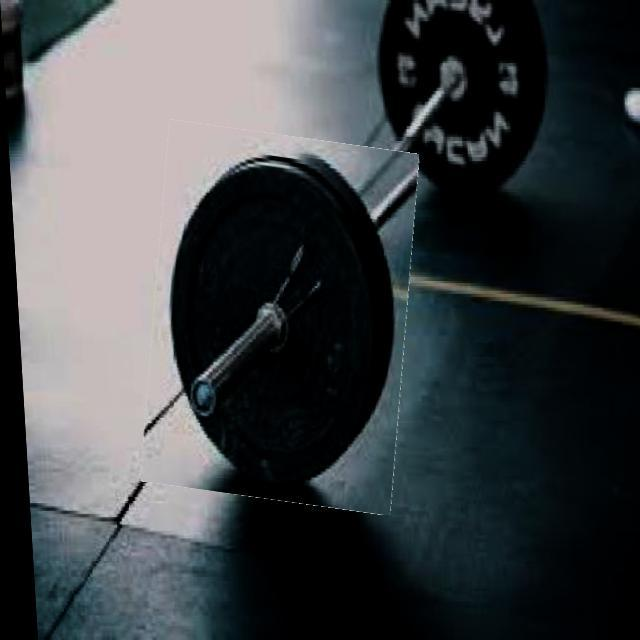barbell: (131, 128, 423, 509)
